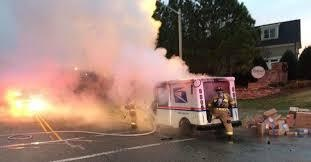fire: (0, 82, 68, 119)
